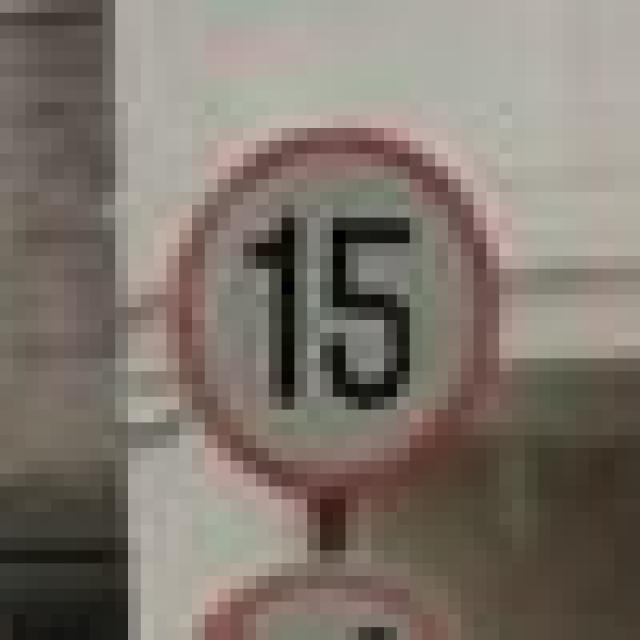SPEED_LIMIT_15: (154, 102, 499, 486)
